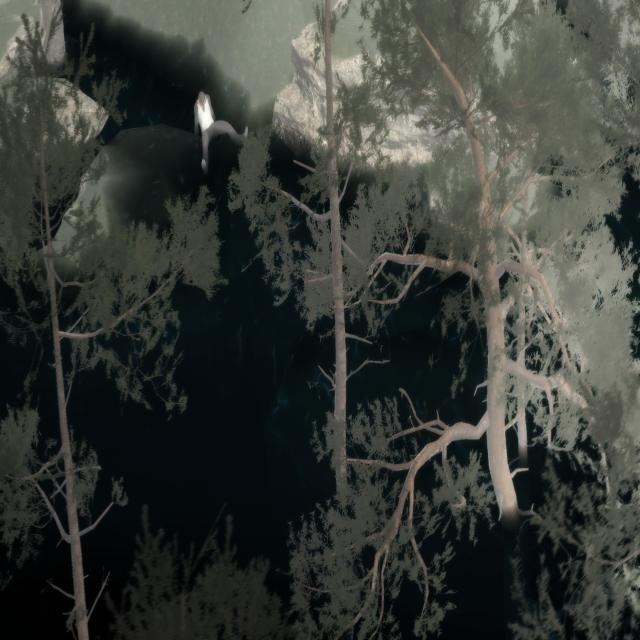Human: (190, 89, 253, 176)
